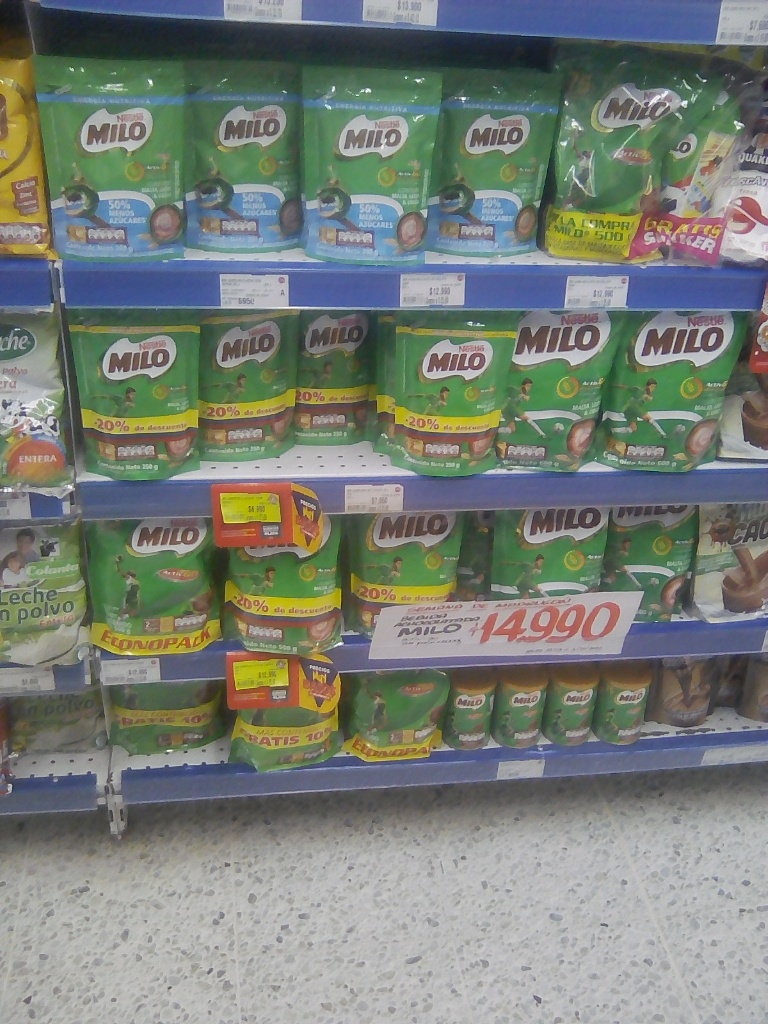COL0170203DYP25000: (385, 305, 512, 477)
COL0170203DYP50000: (84, 519, 223, 653)
COL0170203LAT20000: (600, 661, 653, 747)
COL0170205DYP20000: (436, 66, 562, 257)
